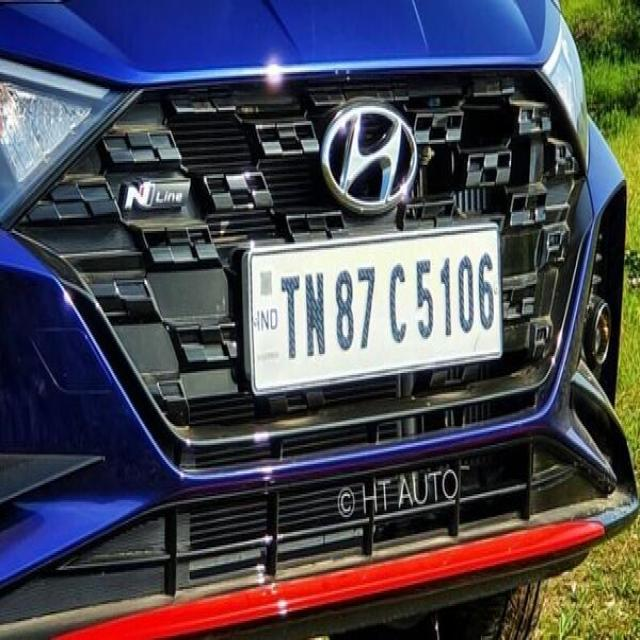plate: (241, 216, 504, 396)
